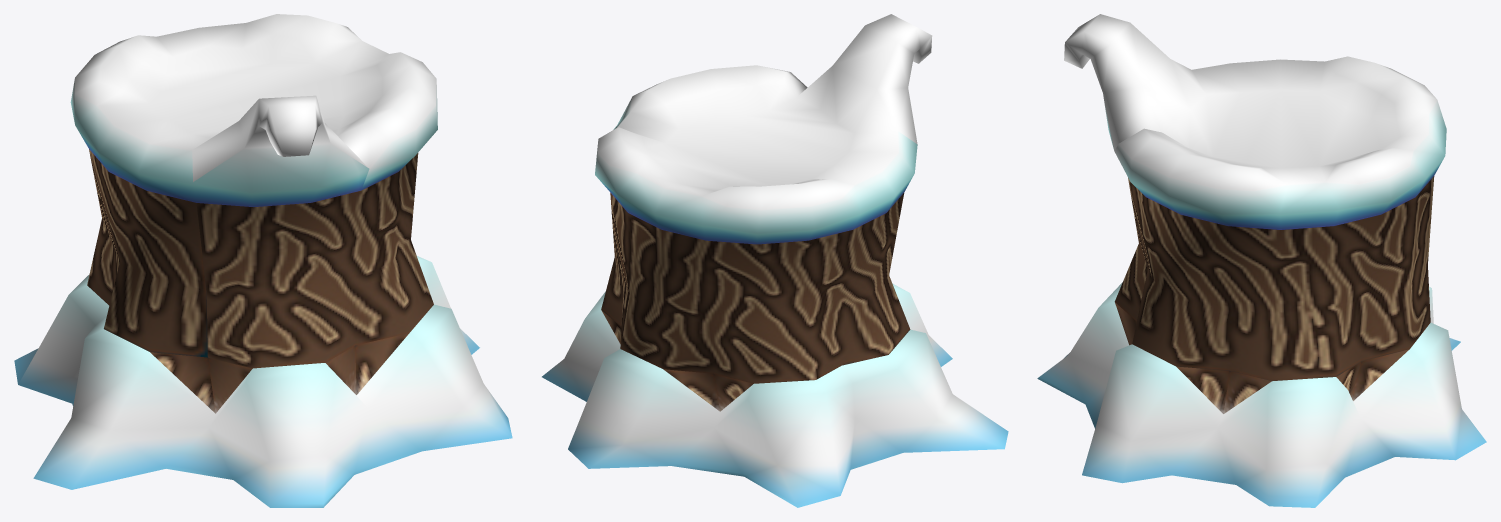
File: Stump_01.fbx
3 views of the same model, side by side, from view 1: azimuth 30°, elevation 25°; view 2: azimuth 150°, elevation 25°; view 3: azimuth 270°, elevation 25° (orthographic). The views are drawn at different scales.
Visible parts, largest first — view 1: Stump_01; view 2: Stump_01; view 3: Stump_01.
Part boxes in pixels (left/top/right/bottom): Stump_01: left=14, top=14, right=512, bottom=507; Stump_01: left=542, top=14, right=1008, bottom=507; Stump_01: left=1037, top=14, right=1486, bottom=507.
Size of the model in its own units: 104 by 80.21 by 92.04.
